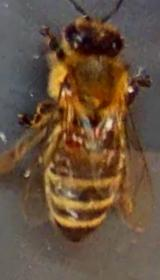varroa_mite: (58, 125, 88, 151)
